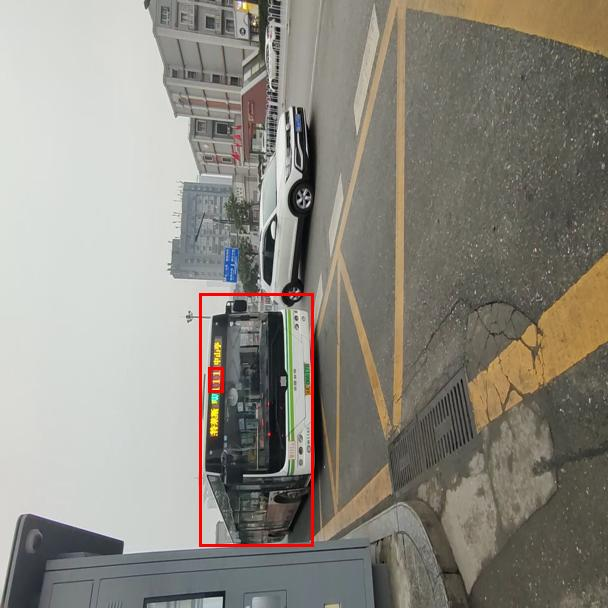bus: (199, 293, 313, 546)
screen: (208, 367, 223, 392)
